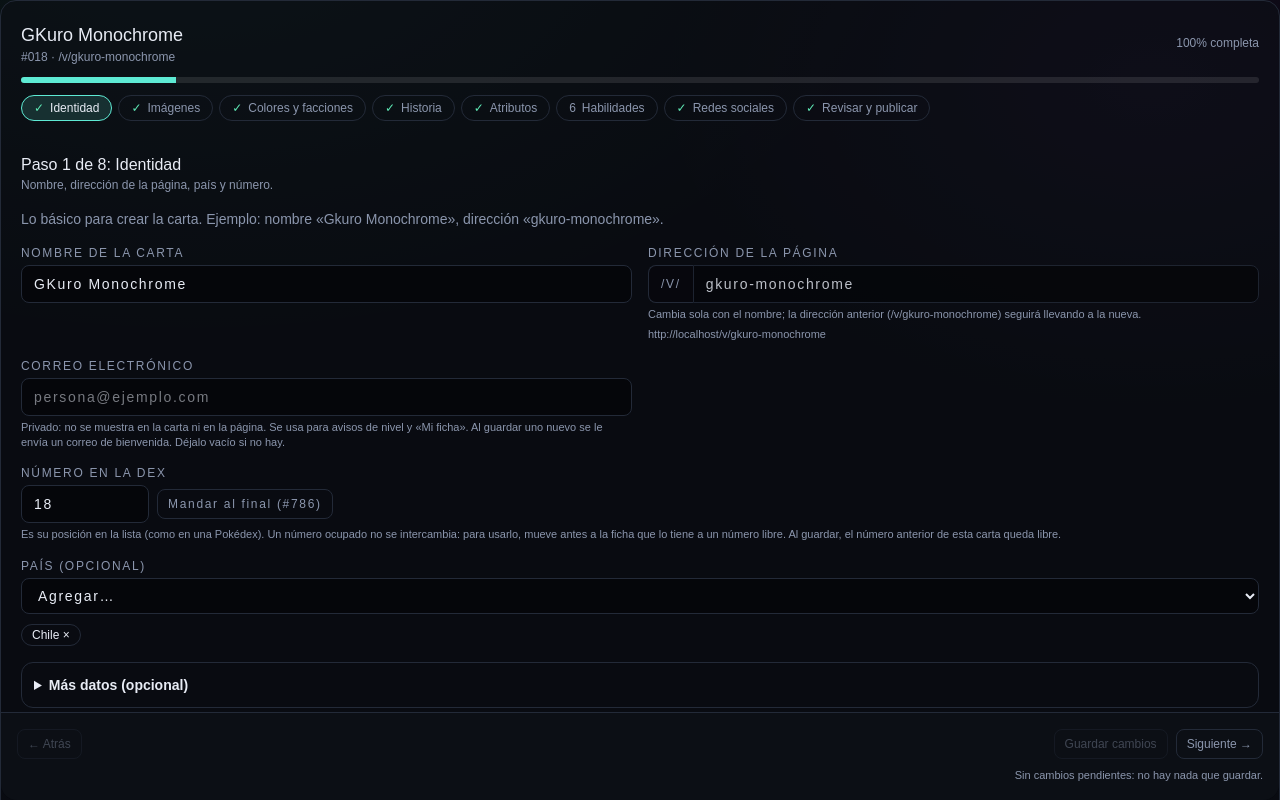
Asistente de carta: edición › un 409 de número ocupado se explica y propone cómo resolverlo
expect the button "Mandar al final (#786)" is shown: met, box [157,490,333,520]
Replace the text in the number field named "Número de dex" with "777". click: (85, 504)
box: [21,486,149,524]
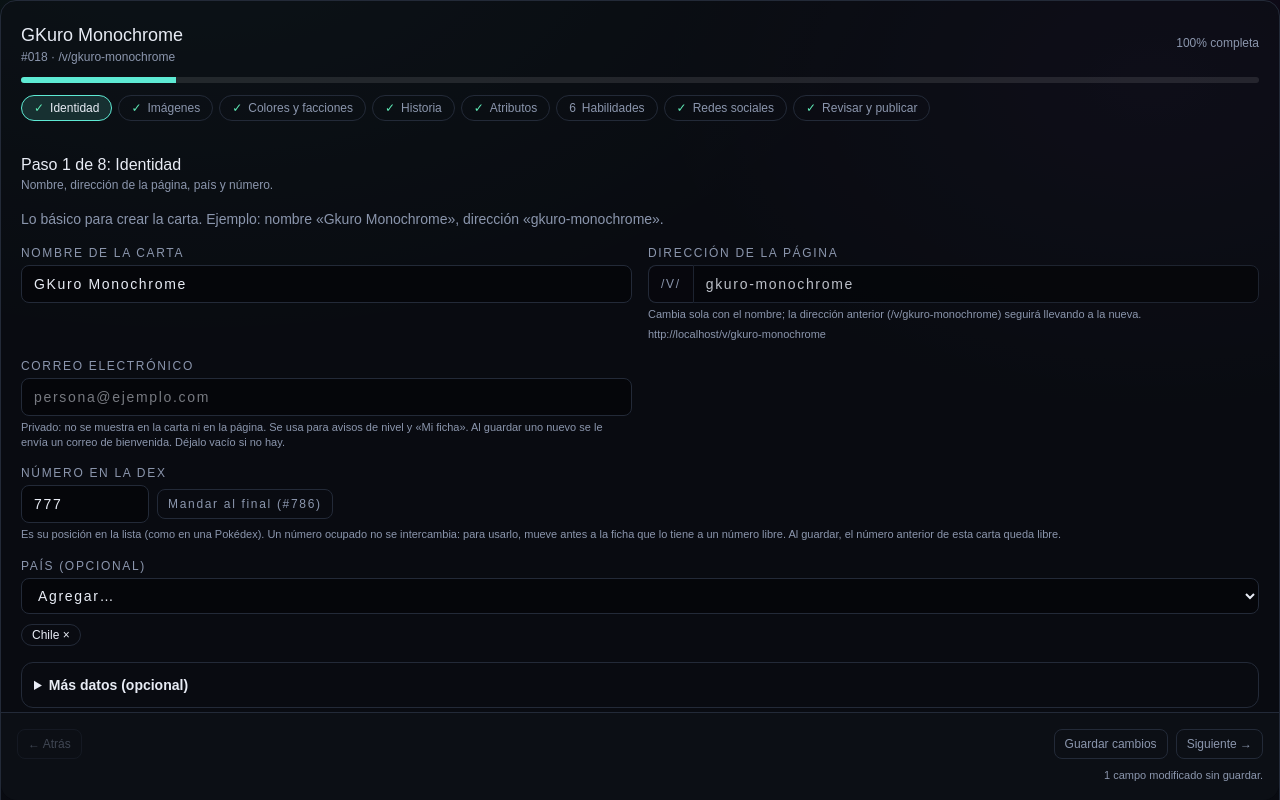
Click the button "Guardar cambios". click: (1111, 744)
box: [1054,730,1168,760]
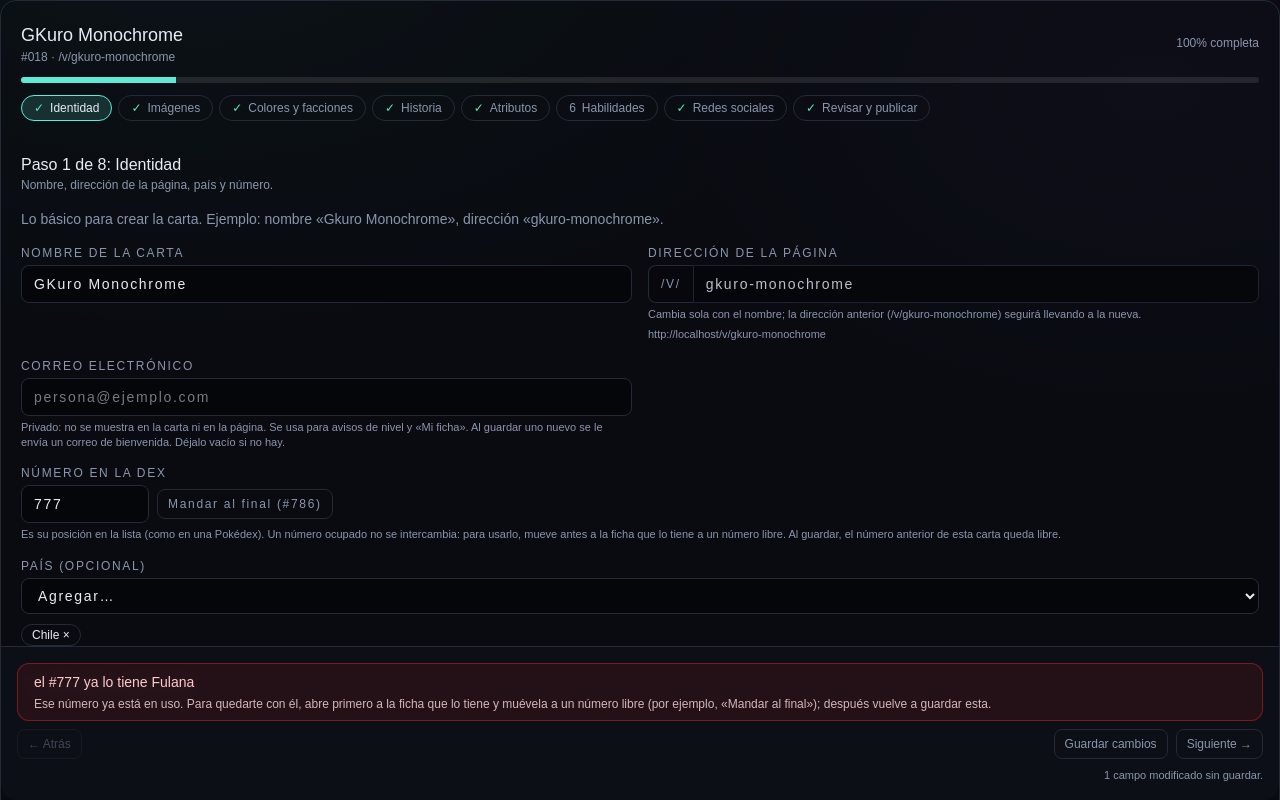
expect the message with test id "admin-editor-error" shows "el #777 ya lo tiene Fulana": met, box [34,674,194,690]
expect the text with test id "admin-dex-hint" shows "muévela": met, box [34,698,991,712]
